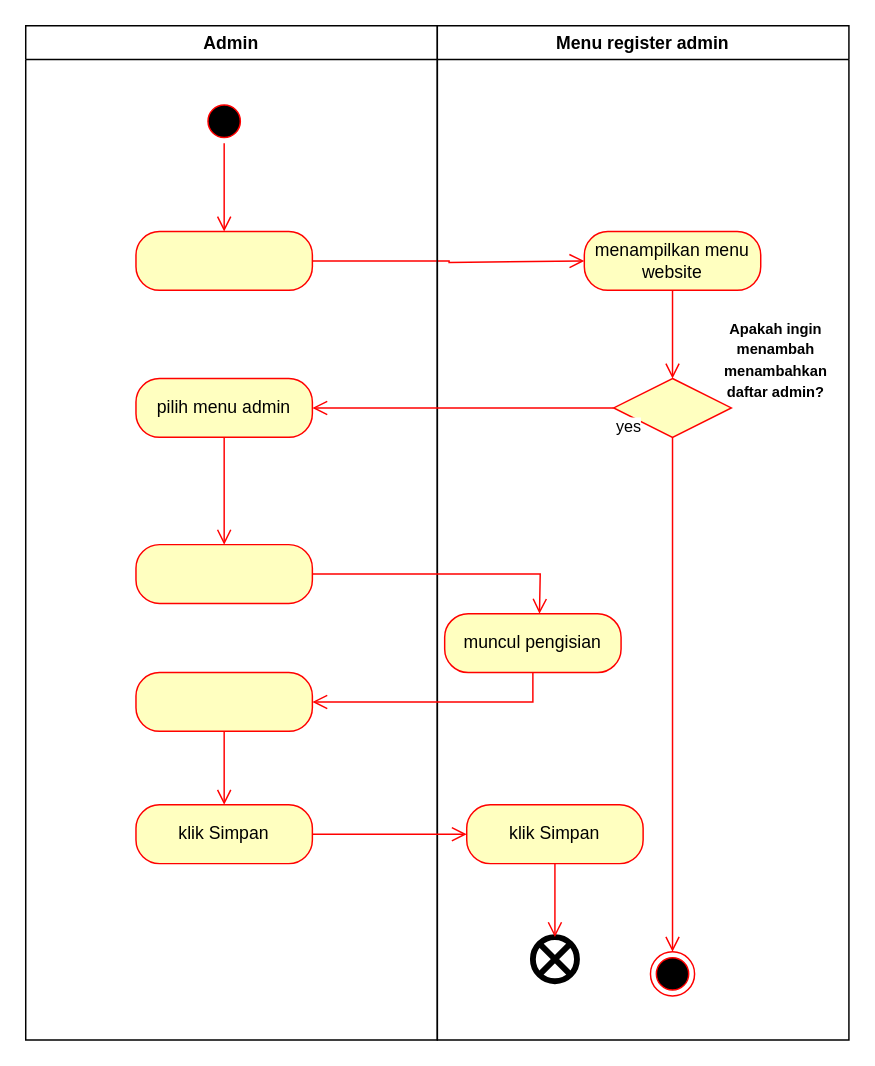
Image size: 875x1066. Some labels were removed from this diagram. Here are the shapes that lost their labels. From the top down, the box of each, then its label:
(135, 230, 312, 290): Masuk menu
(135, 543, 312, 603): pilih tambah admin
(135, 671, 312, 731): mengisi form admin
